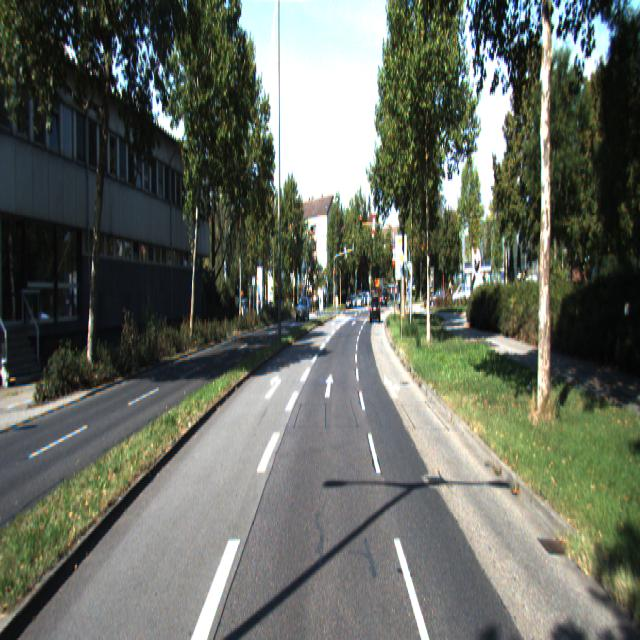Car: (296, 296, 310, 322), (370, 296, 381, 324)
